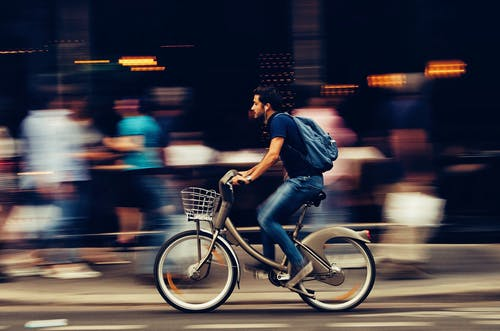bicycle: (151, 163, 380, 317)
